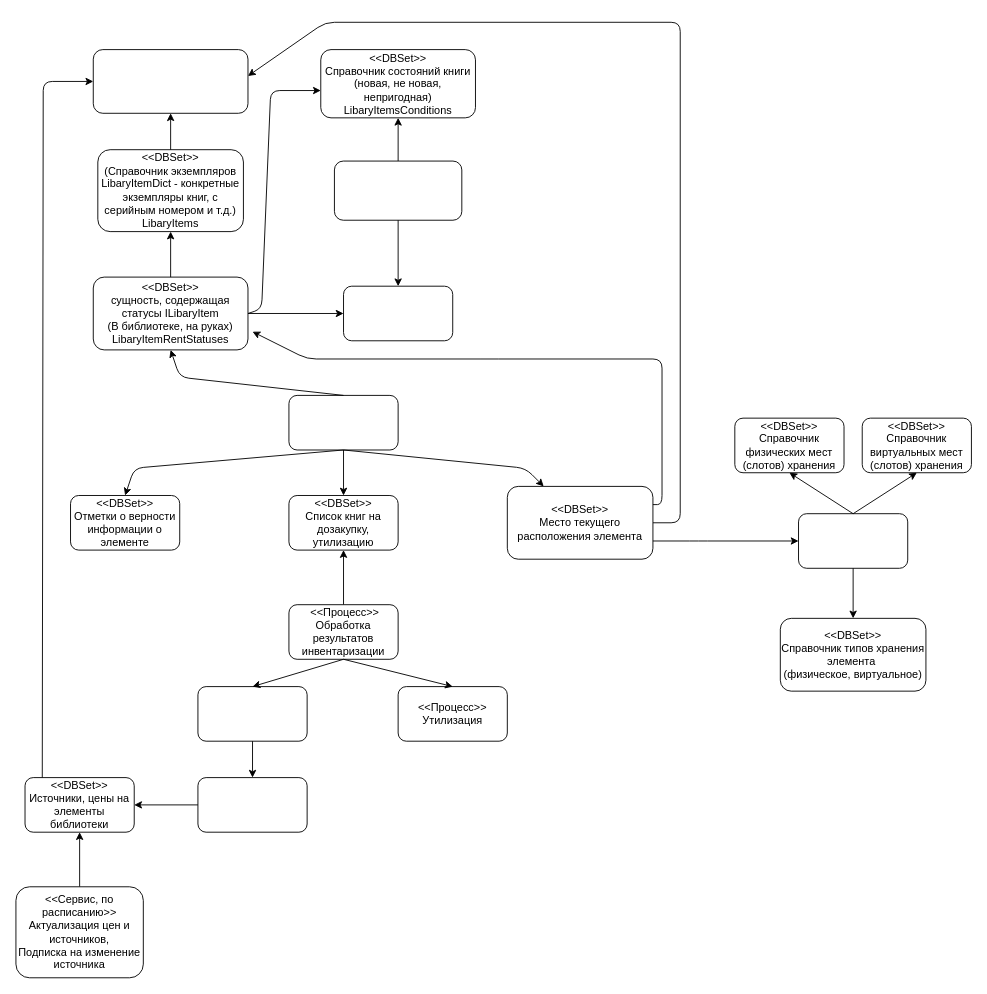
This 987x994 diagram has some shape labels left out. Each missing label, with the centre of its shape:
"<<DBSet>> (Справочник сущностей книг, кассет, аудиокниг и т.д.) LibaryItemDict" belongs at point 170,81.
"<<DBSet>> Места (Слоты) хранения элемента" belongs at point 853,540.
"<<DBSet>> Справочник - история пользования книги LibaryItemUsingHistory" belongs at point 398,190.
"<<DBSet>> Справочник клиентов LibaryClientsDict" belongs at point 398,313.
"<<Процесс>> Дозакупка" belongs at point 252,713.
"<<Процесс>> Инвентаризация" belongs at point 343,422.
"<<Процесс>> Поиск наилучшего источника" belongs at point 252,804.
